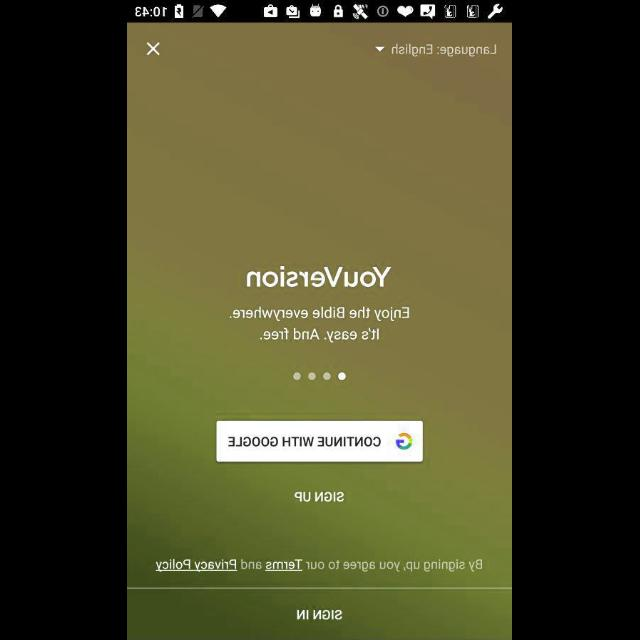icon: (147, 42, 161, 56)
pageindicator: (293, 372, 347, 382)
spinner: (375, 44, 433, 58)
text: (230, 306, 410, 344), (155, 559, 482, 573), (246, 266, 392, 288), (437, 44, 497, 58), (294, 491, 346, 503)
textbutton: (128, 588, 512, 640), (217, 422, 423, 462)
uppertaskbar: (128, 1, 512, 23)
